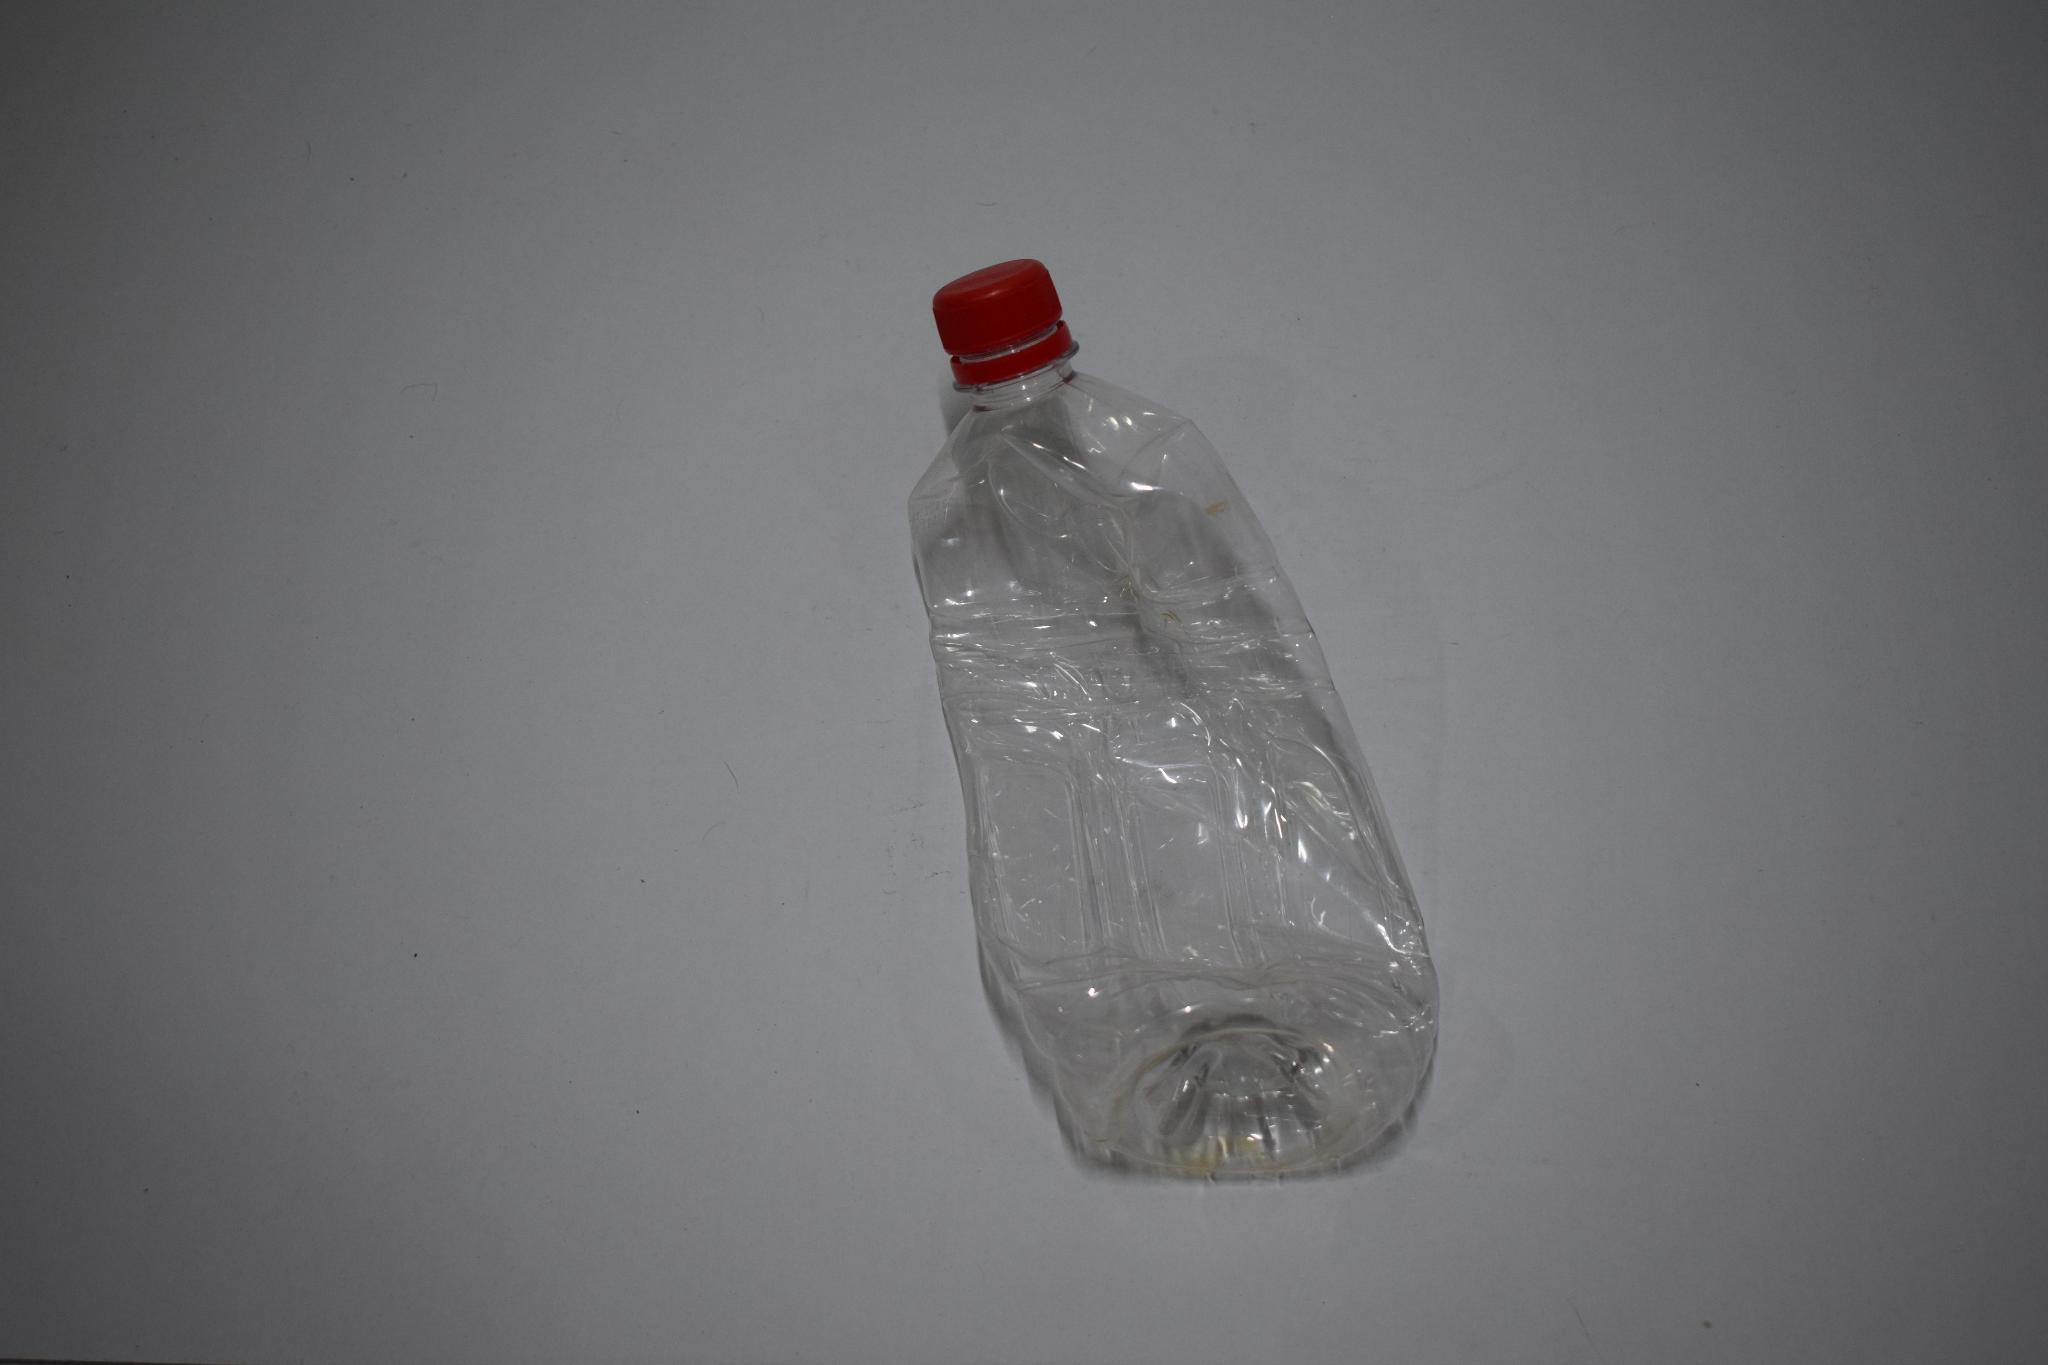bottle: (822, 202, 1514, 1278)
